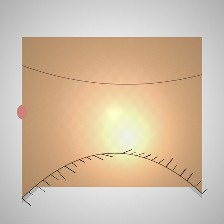hemorrhage_spot: (108, 81, 168, 129)
